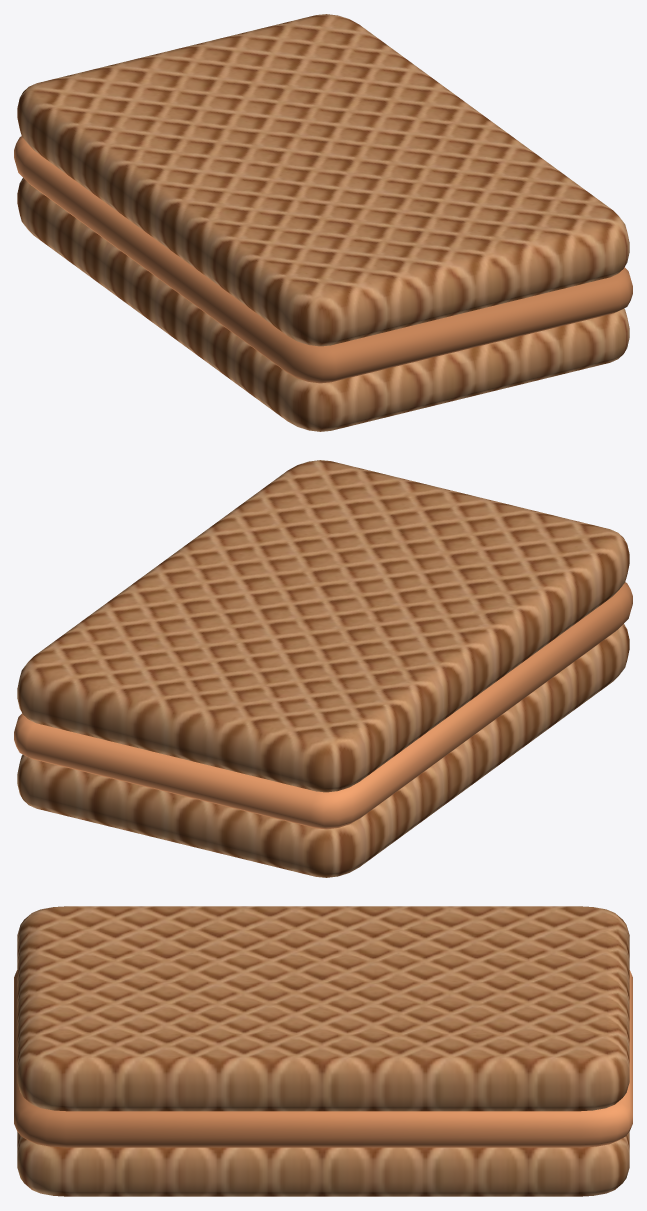
The model's file is candy_waf_16.fbx.
3 views of the same model, one above another, from view 1: azimuth 30°, elevation 25°; view 2: azimuth 150°, elevation 25°; view 3: azimuth 270°, elevation 25° (orthographic).
Parts seen in each view (by area): view 1: c_w_16; view 2: c_w_16; view 3: c_w_16.
Part boxes in pixels (x1,y1,x2,y2): c_w_16: (14, 14, 632, 431); c_w_16: (14, 460, 632, 877); c_w_16: (14, 906, 632, 1196).
Size of the model in its own units: 115 by 44.04 by 180.
